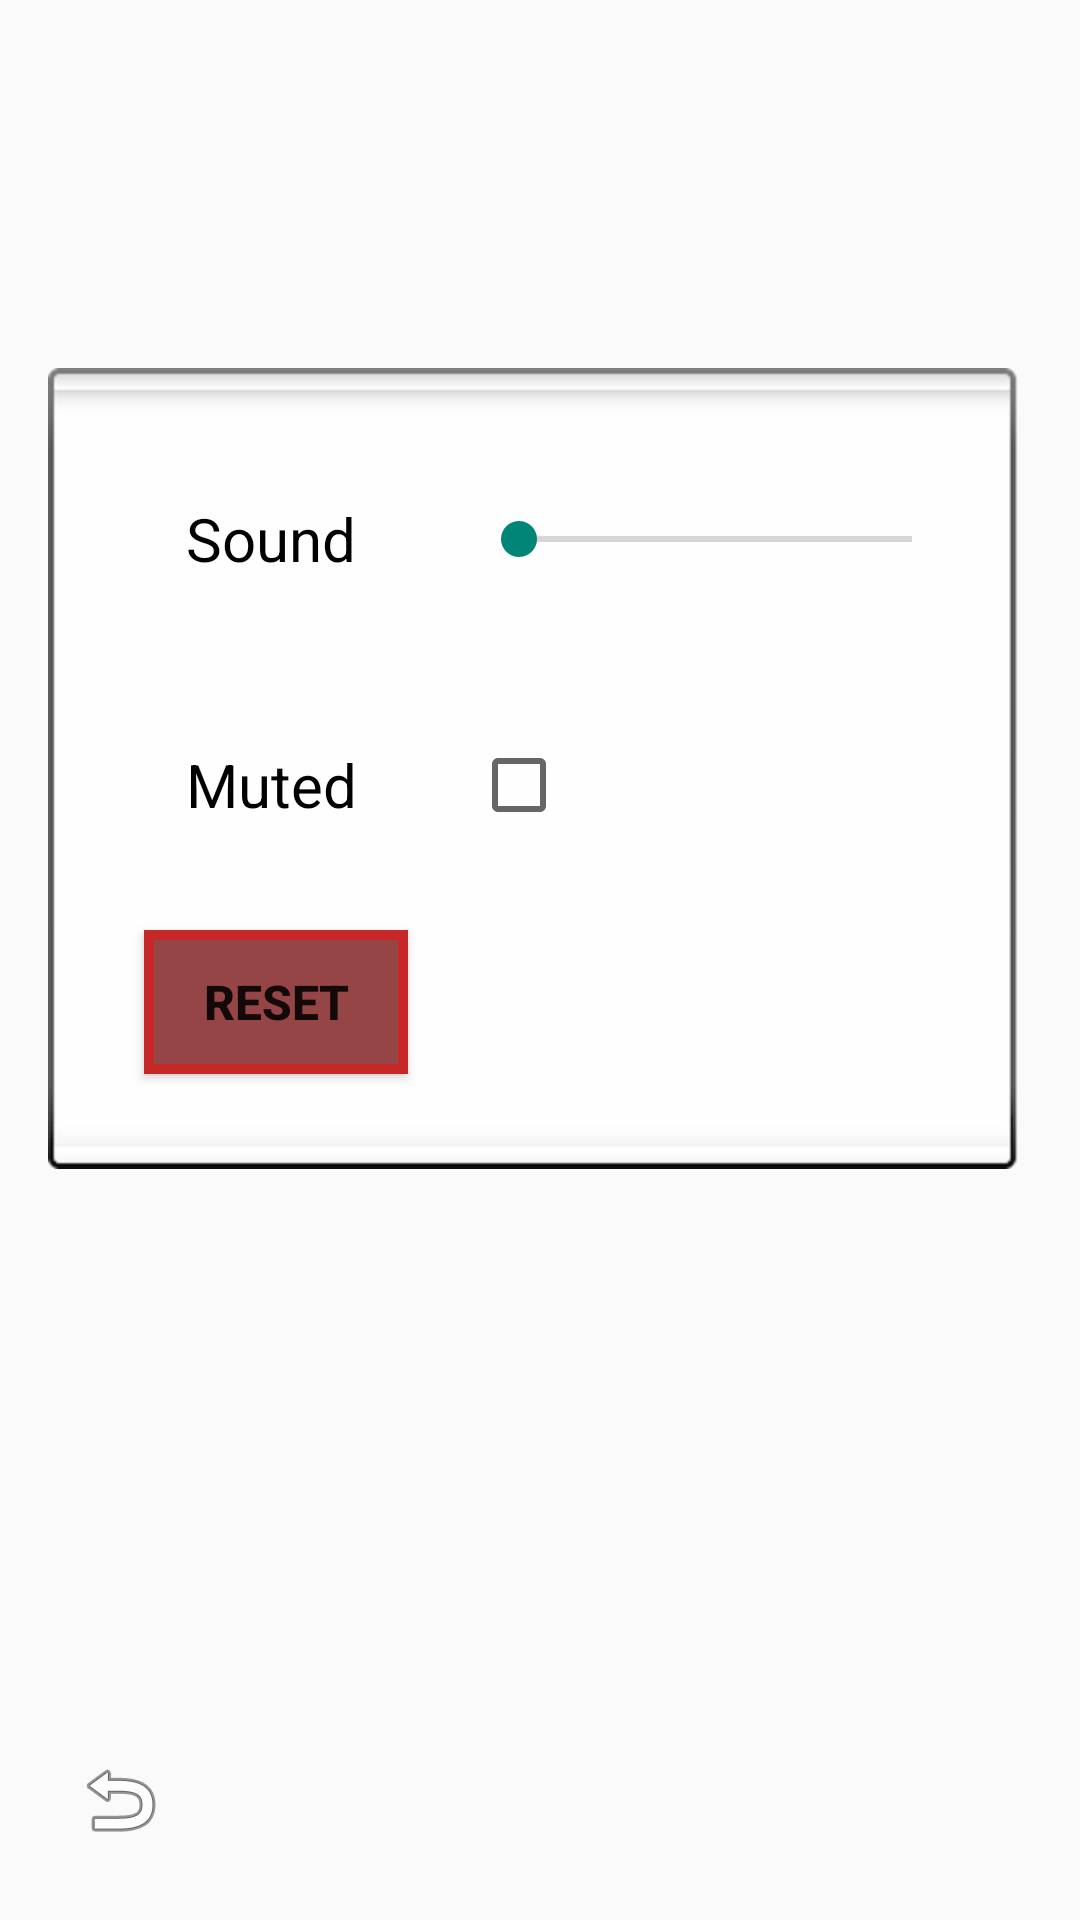

Icons on this 1080x1920 Android screen, each with the point to tap as [x,y]:
revert: [121,1800]
